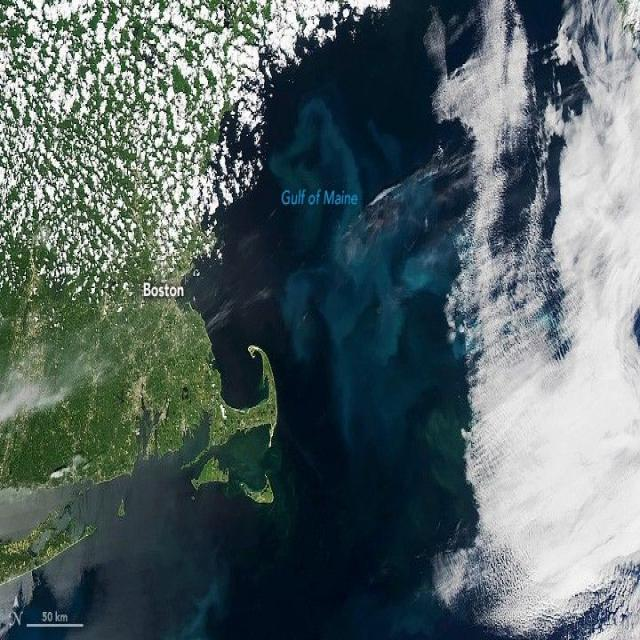oil spill: (32, 0, 493, 638)
